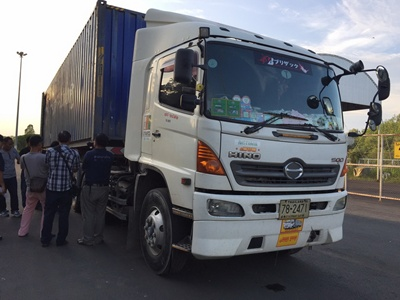truck: (112, 6, 349, 278)
